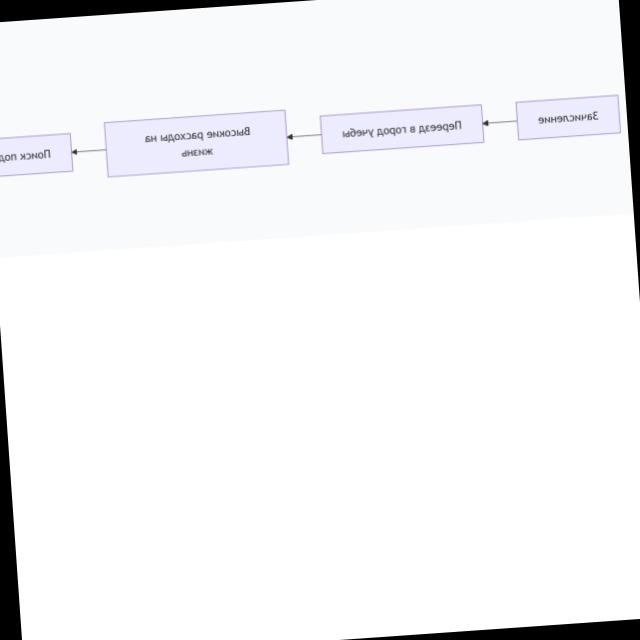arrow: (71, 149, 104, 155), (482, 120, 516, 125), (288, 134, 320, 139)
rectangle: (103, 109, 289, 177), (320, 103, 485, 154), (515, 93, 622, 140)
